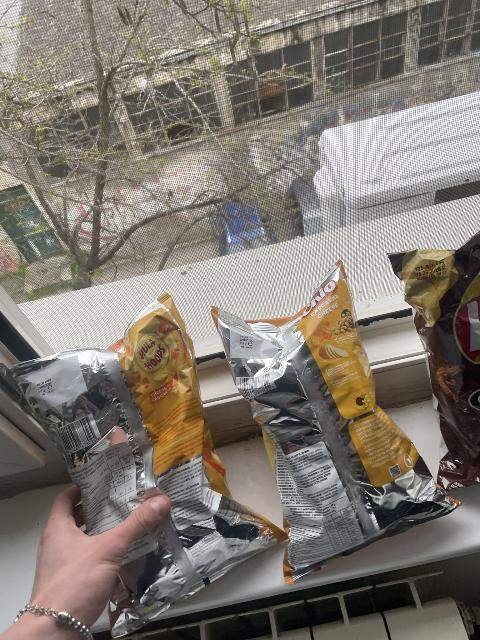Chio Cascaval 125g: (213, 256, 460, 590)
Chio Hula Hoops Cheese 70g: (1, 292, 282, 629)
Lays Beef Grilled Ribs 125g: (391, 231, 480, 494)
